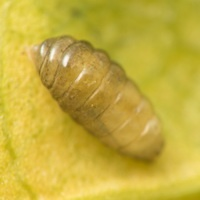insect: (31, 36, 162, 159)
